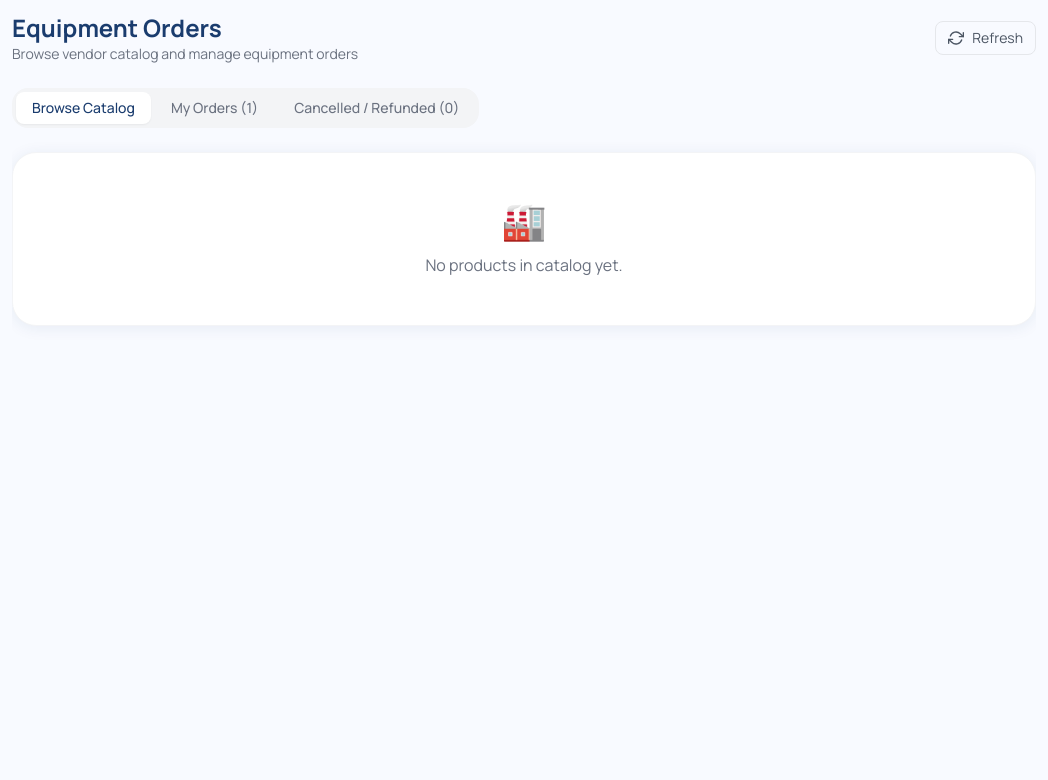
Test: Pay Now pays the saved order, verifies it and refreshes without placing another order
The width and height of the screenshot is (1048, 780).
Later steps or results of the test are not shown.
What coordinates should you click on to do the following:
click the button "My Orders (1)"
I would click on:
 (214, 108)
Its box is x1=155 y1=92 x2=274 y2=124.
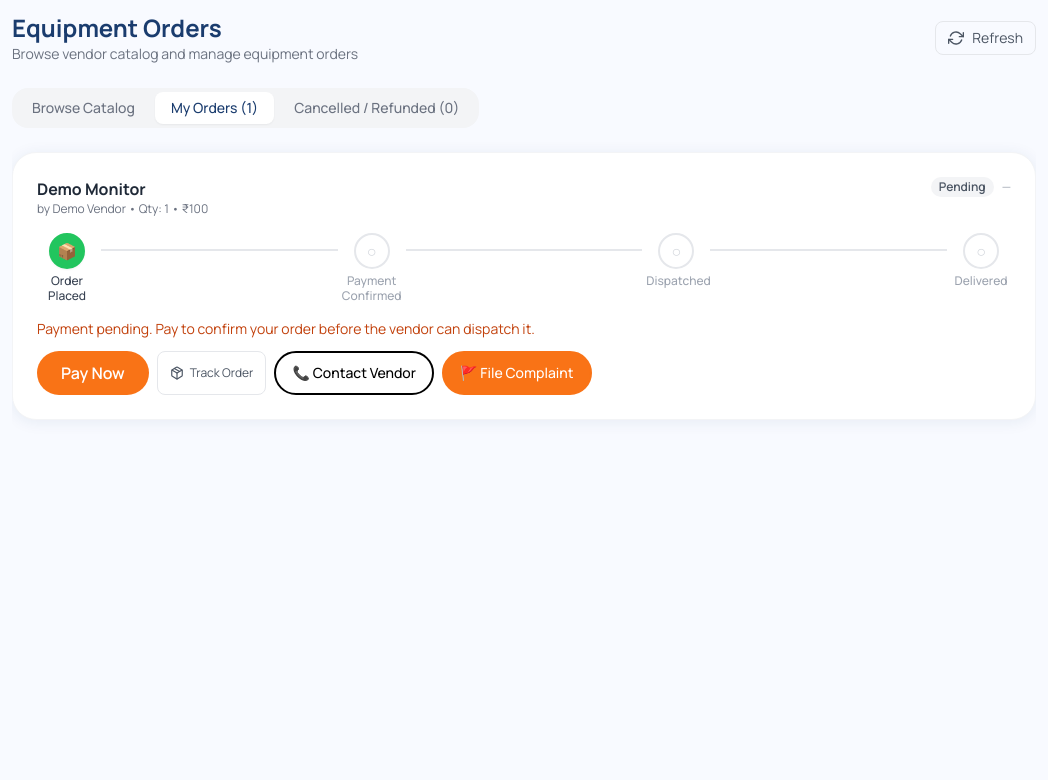
What coordinates should you click on to do the following:
click the button "Pay Now"
I would click on:
 (93, 373)
Its box is x1=37 y1=351 x2=149 y2=395.
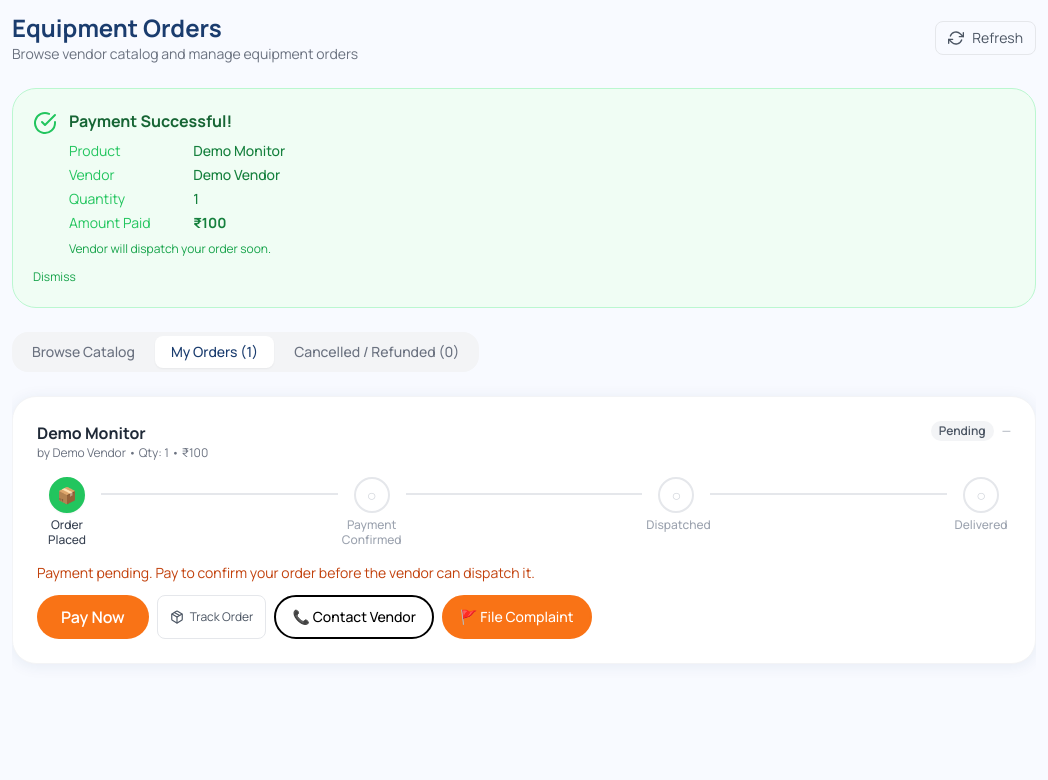
expect the text "Payment Successful!" is shown: met, box x1=69 y1=110 x2=232 y2=132
